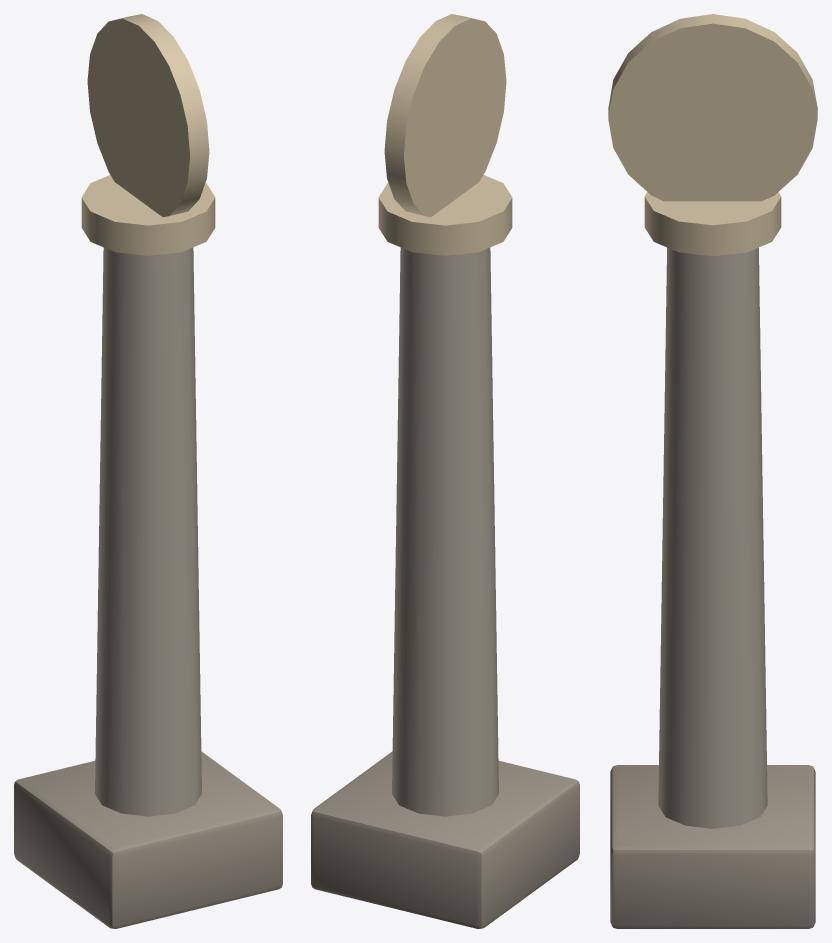
File: dk_ring.gltf
The picture shows the model from 3 angles, left to right: view 1: azimuth 30°, elevation 25°; view 2: azimuth 150°, elevation 25°; view 3: azimuth 270°, elevation 25°; orthographic projection. The views are drawn at different scales.
Parts seen in each view (by area): view 1: Body, Ring; view 2: Body, Ring; view 3: Body, Ring.
Boxes of the visible parts, left/top/right/bottom form: Body: left=14, top=175, right=282, bottom=928; Ring: left=87, top=14, right=209, bottom=217; Body: left=311, top=175, right=579, bottom=928; Ring: left=384, top=14, right=506, bottom=217; Body: left=610, top=192, right=815, bottom=928; Ring: left=608, top=14, right=817, bottom=201.
Size of the model in its own units: 0.9 by 4.21 by 0.92.
